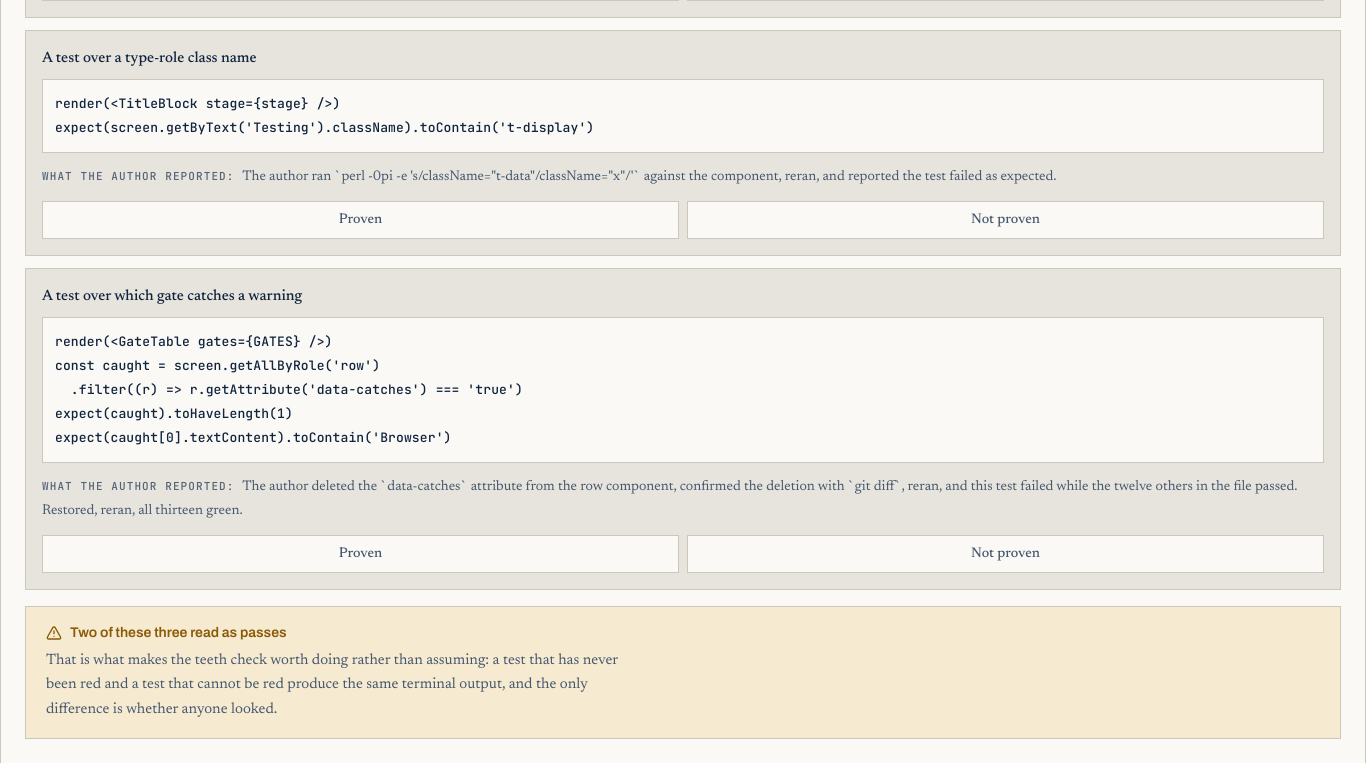
Scenario: the literal-assertion case is proven, and saying it is not scores zero
(page scrolled)
Click the 3rd radio button labelled "Not proven" at (1006,554), box [687,535,1324,573]
(page scrolled)
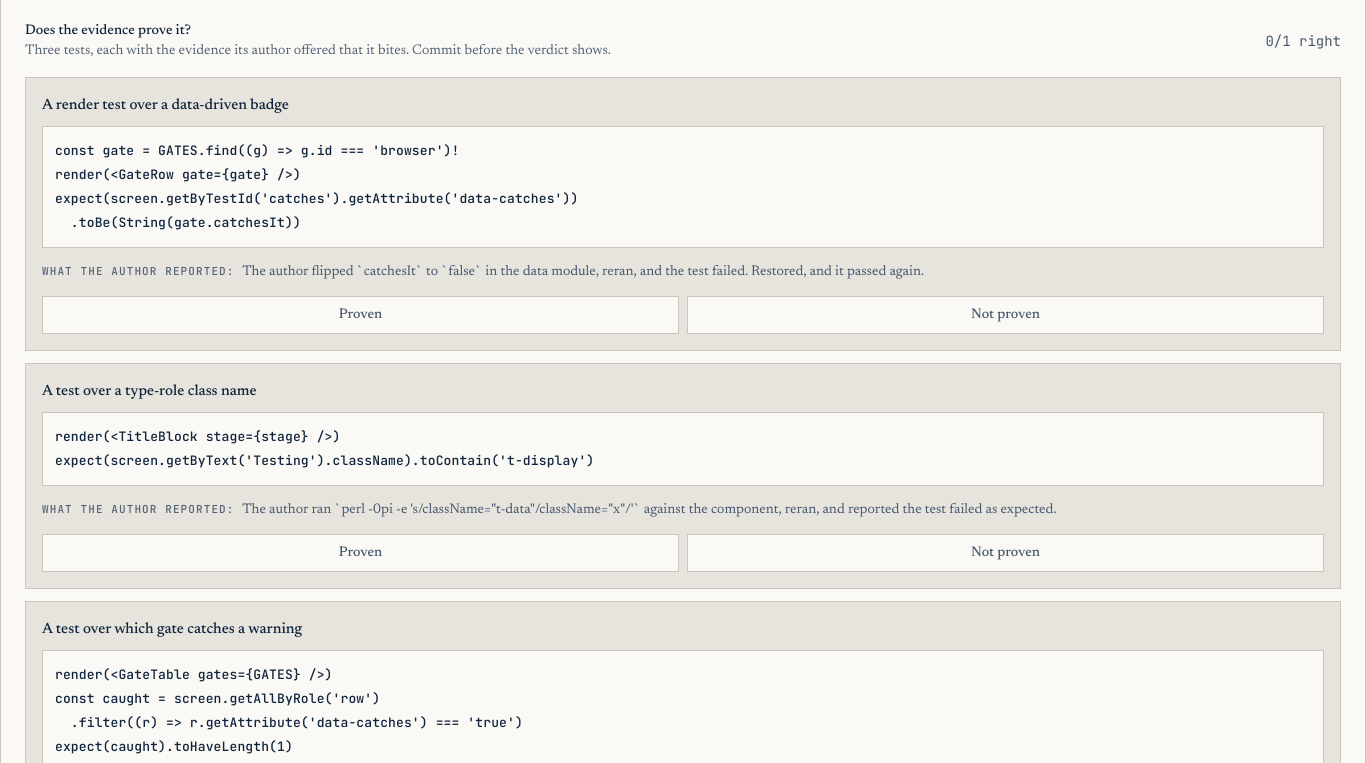
Expected: the text "0/1 right" is shown, [1265,31,1341,51]
